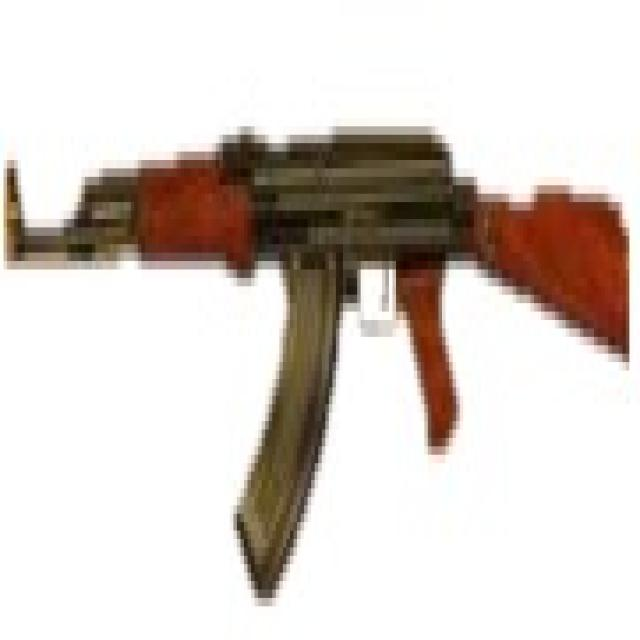rifle: (1, 100, 634, 619)
